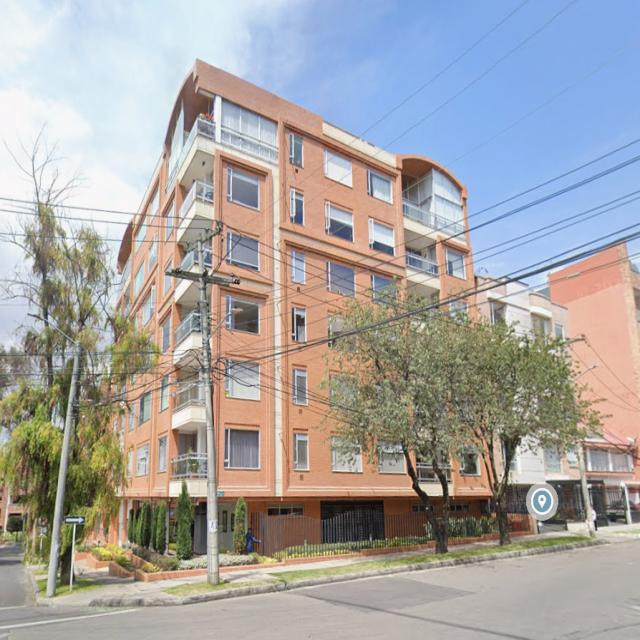fachada: (109, 61, 474, 552), (550, 245, 639, 517), (477, 276, 570, 339), (0, 485, 23, 532)
poste: (47, 342, 81, 597), (198, 236, 219, 585), (577, 442, 595, 537), (621, 481, 633, 524), (70, 524, 76, 591)
